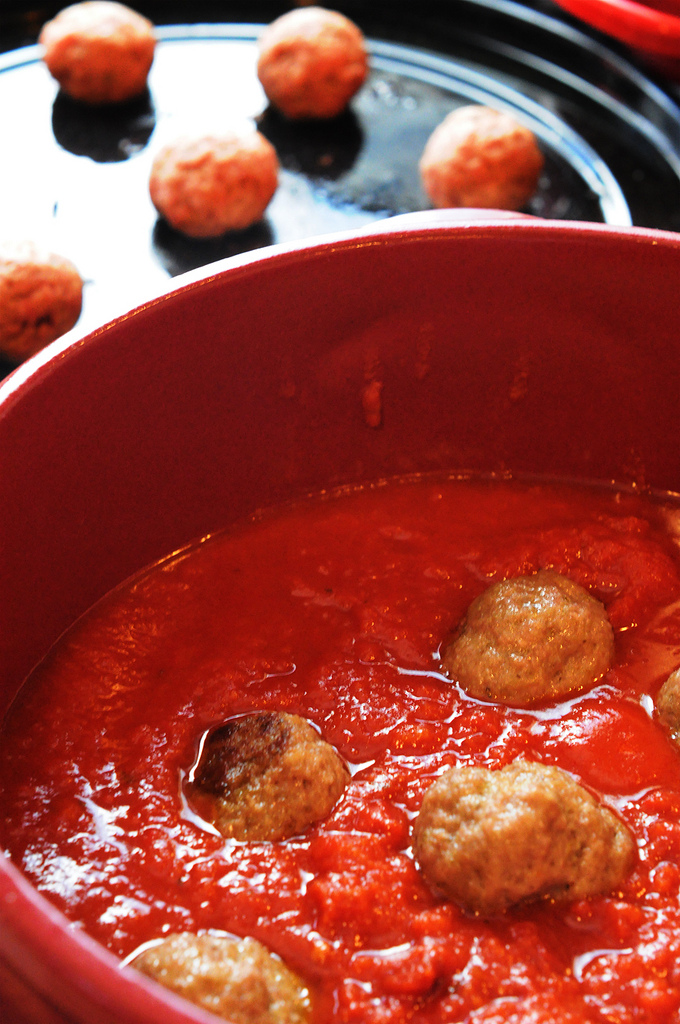meatballs: (428, 763, 613, 917), (114, 912, 309, 1024), (449, 576, 623, 697), (193, 704, 333, 838), (421, 106, 536, 212), (151, 136, 281, 220), (256, 13, 362, 116), (1, 231, 86, 345), (49, 12, 154, 97)
